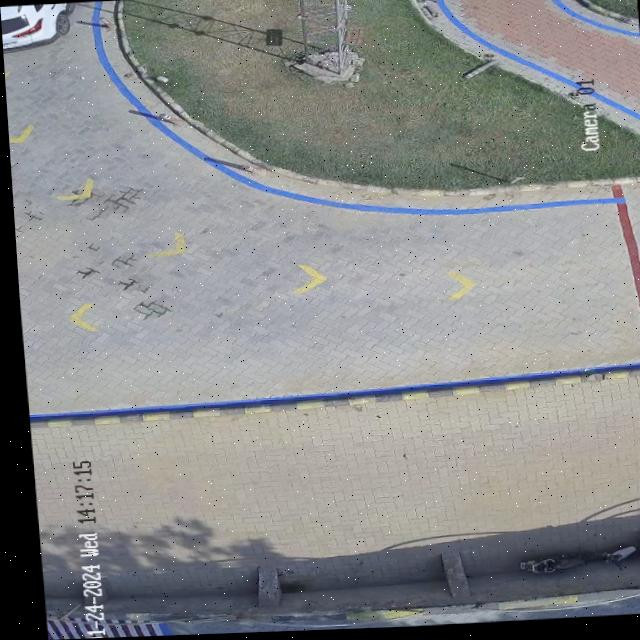car: (0, 2, 73, 52)
